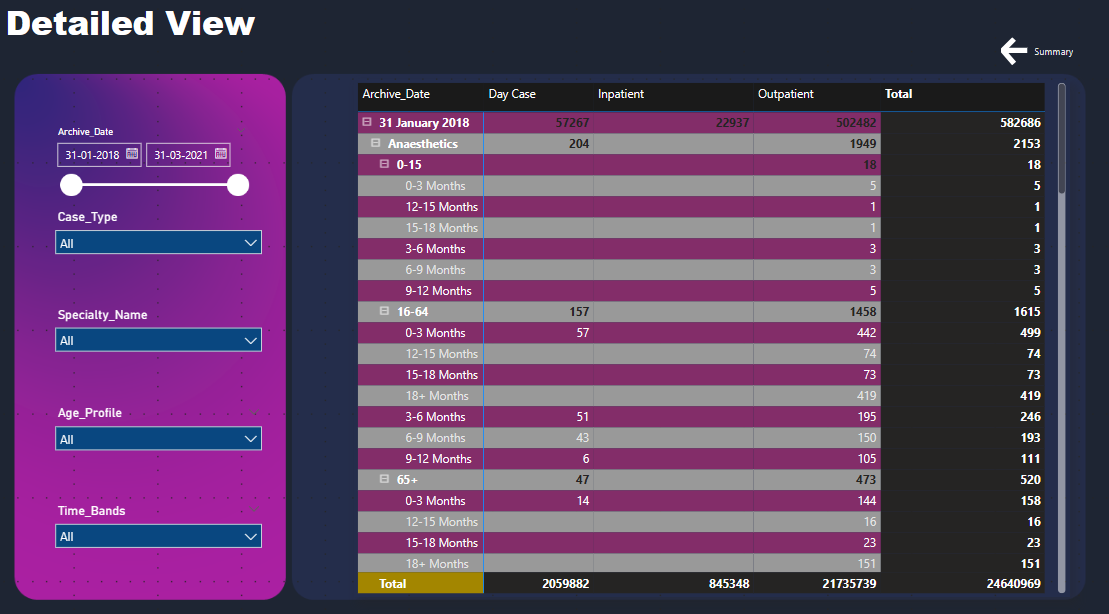

What the dashboard file says about the page in this screenshot:
{"tool":"powerbi","page":{"name":"Detail","canvas":[1280,720],"ordinal":1},"visuals":[{"type":"slicer","fields":{"Values":["All_Data.Archive_Date"]},"box":[64,144,240,96],"z":0},{"type":"slicer","fields":{"Values":["All_Data.Case_Type"]},"box":[64,240,256,80],"z":1000},{"type":"slicer","fields":{"Values":["All_Data.Specialty_Name"]},"box":[64,352,256,80],"z":2000},{"type":"textbox","box":[0,0,320,64],"z":3000},{"type":"slicer","fields":{"Values":["All_Data.Age_Profile"]},"box":[64,464,256,80],"z":4000},{"type":"slicer","fields":{"Values":["All_Data.Time_Bands"]},"box":[64,576,256,80],"z":5000},{"type":"pivotTable","fields":{"Rows":["All_Data.Archive_Date","All_Data.Specialty_Name","All_Data.Age_Profile","All_Data.Time_Bands"],"Columns":["All_Data.Case_Type"],"Values":["Sum(All_Data.Total)"]},"box":[415.7,95.7,818.6,592.9],"z":6000},{"type":"actionButton","box":[1151.4,44.3,128.6,40],"z":6001}]}

Visuals, with their boxes in screenshot pixels (x1, y1, x2, y2), scaled from the page's 1280x720 canvas onto the 1109x614 screenshot:
slicer - All_Data.Archive_Date: (left=55, top=123, right=263, bottom=205)
slicer - All_Data.Case_Type: (left=55, top=205, right=277, bottom=273)
slicer - All_Data.Specialty_Name: (left=55, top=300, right=277, bottom=368)
textbox: (left=0, top=0, right=277, bottom=55)
slicer - All_Data.Age_Profile: (left=55, top=396, right=277, bottom=464)
slicer - All_Data.Time_Bands: (left=55, top=491, right=277, bottom=559)
pivotTable - All_Data.Archive_Date x All_Data.Specialty_Name: (left=360, top=82, right=1069, bottom=587)
actionButton: (left=998, top=38, right=1108, bottom=72)
